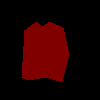abbigliamento_uomo: (21, 21, 69, 82)
